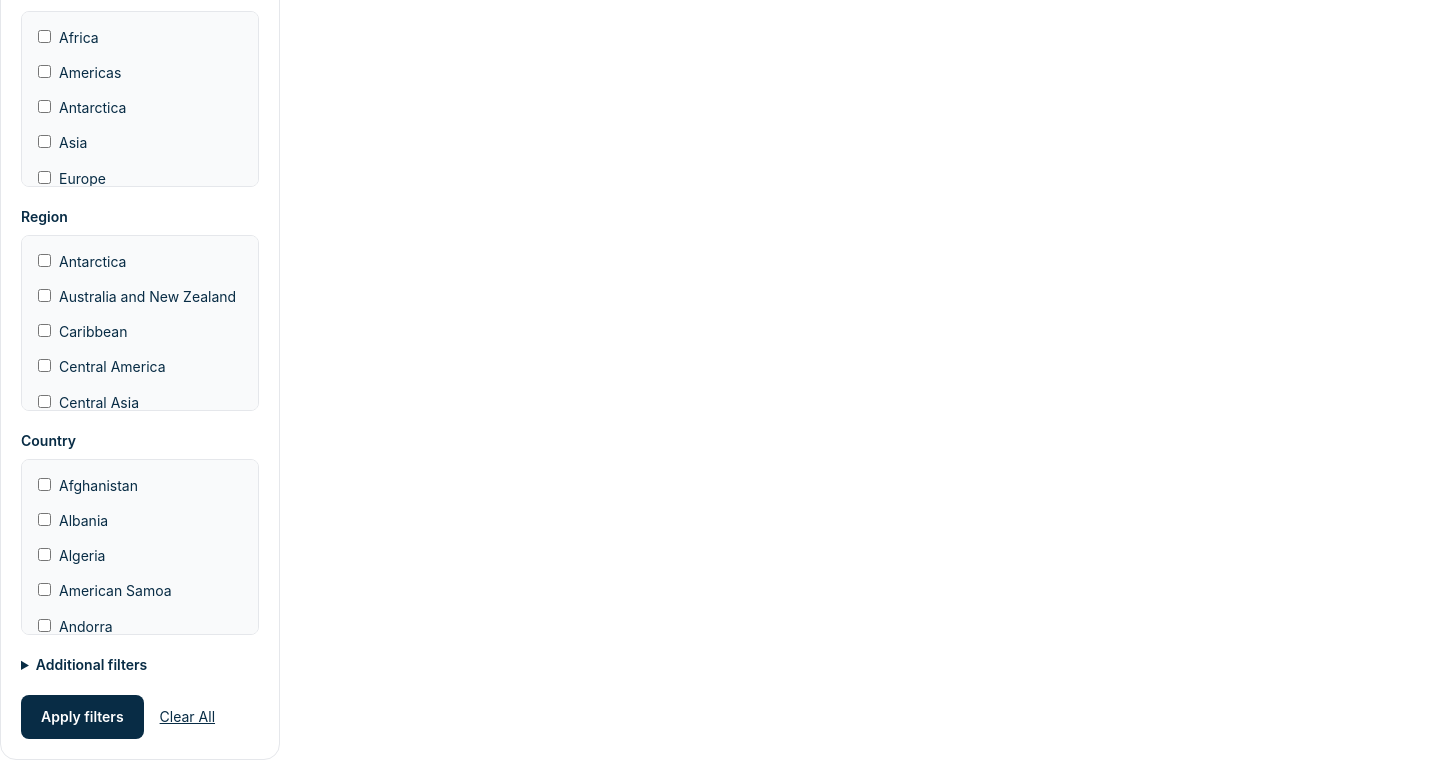
retains matching saved records after an HTTP failure
The image size is (1440, 760).
(page scrolled)
Click the heading "Additional filters". click: click(92, 664)
box: [36,656,147,673]
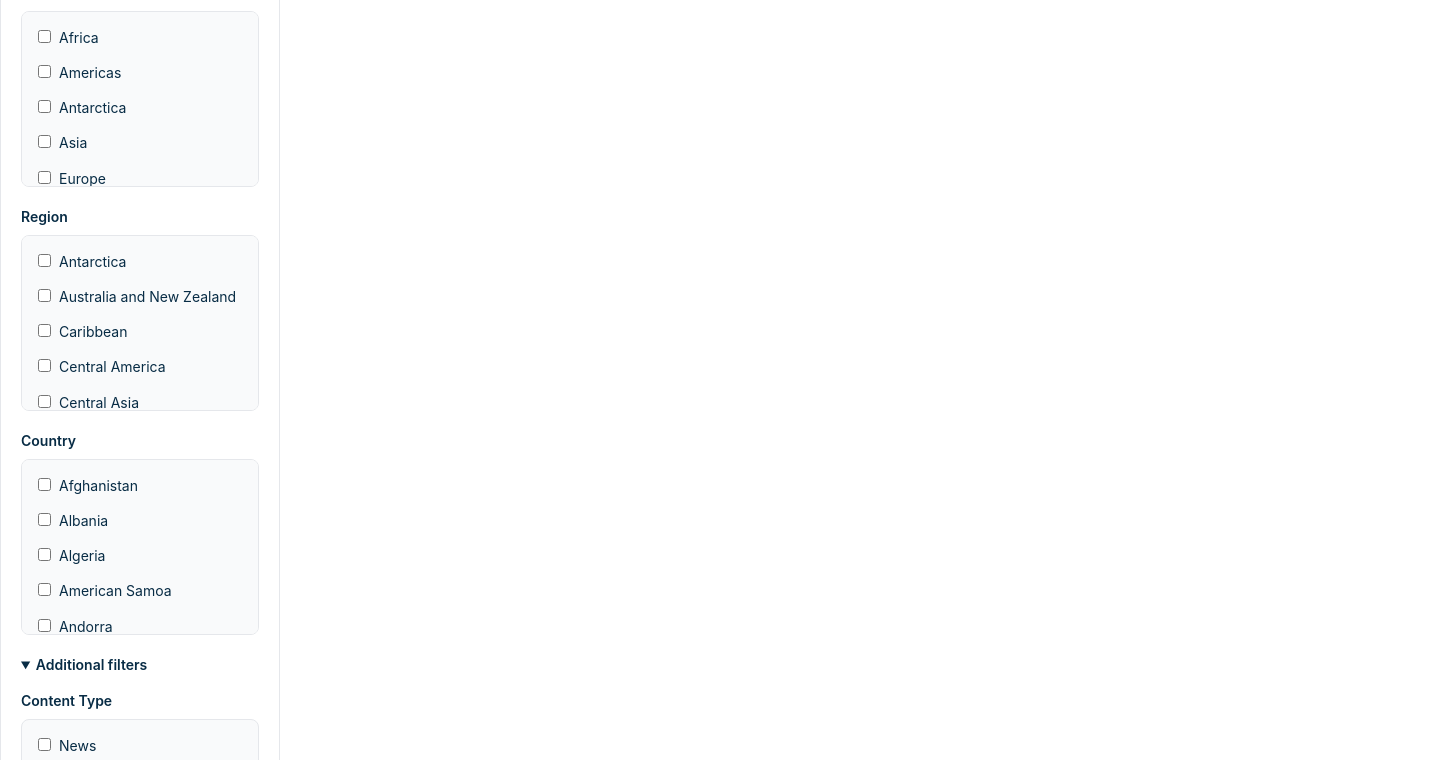
Click the checkbox labelled "News". click: click(44, 744)
box: [38,738,51,751]
(page scrolled)
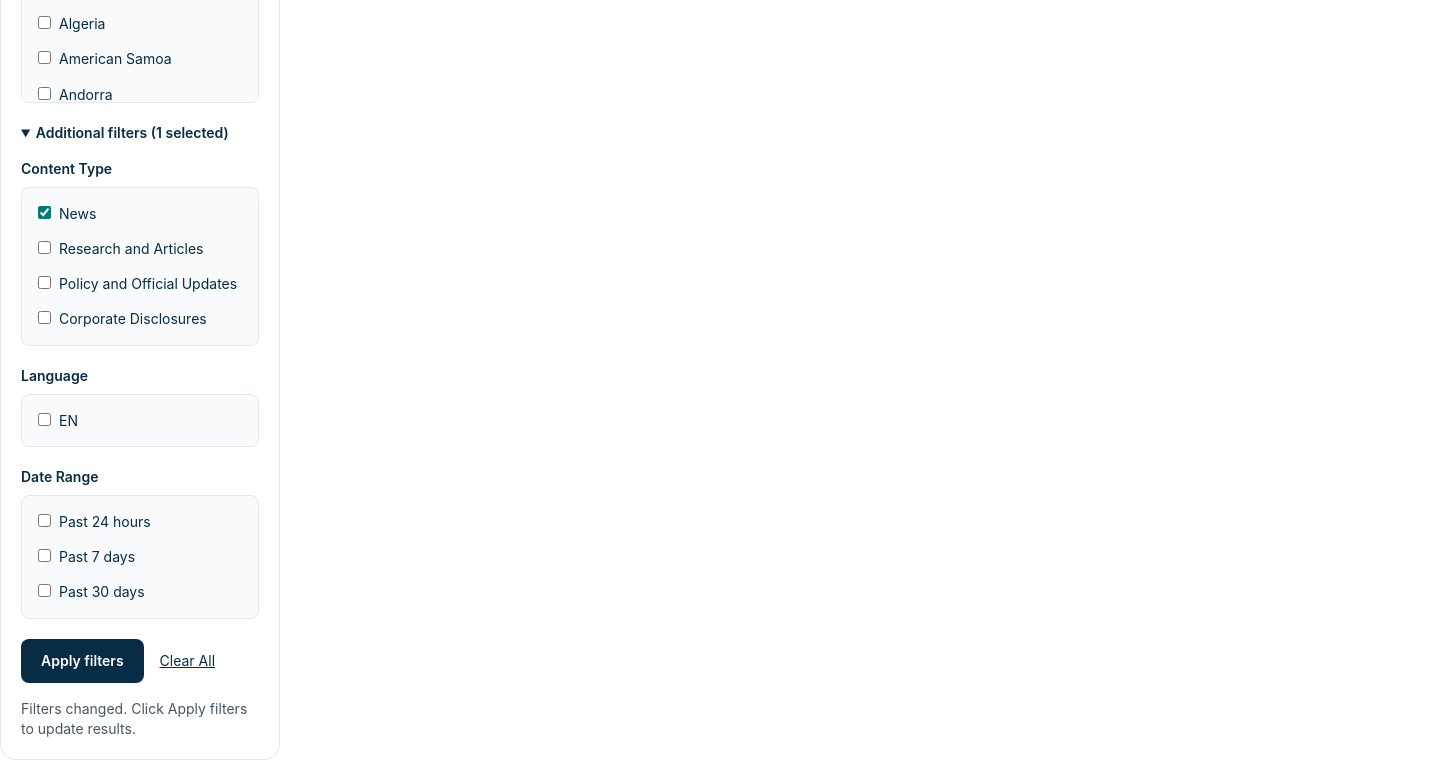
Click the button "Apply filters". click: click(82, 661)
box: [21,639,144,683]
(page scrolled)
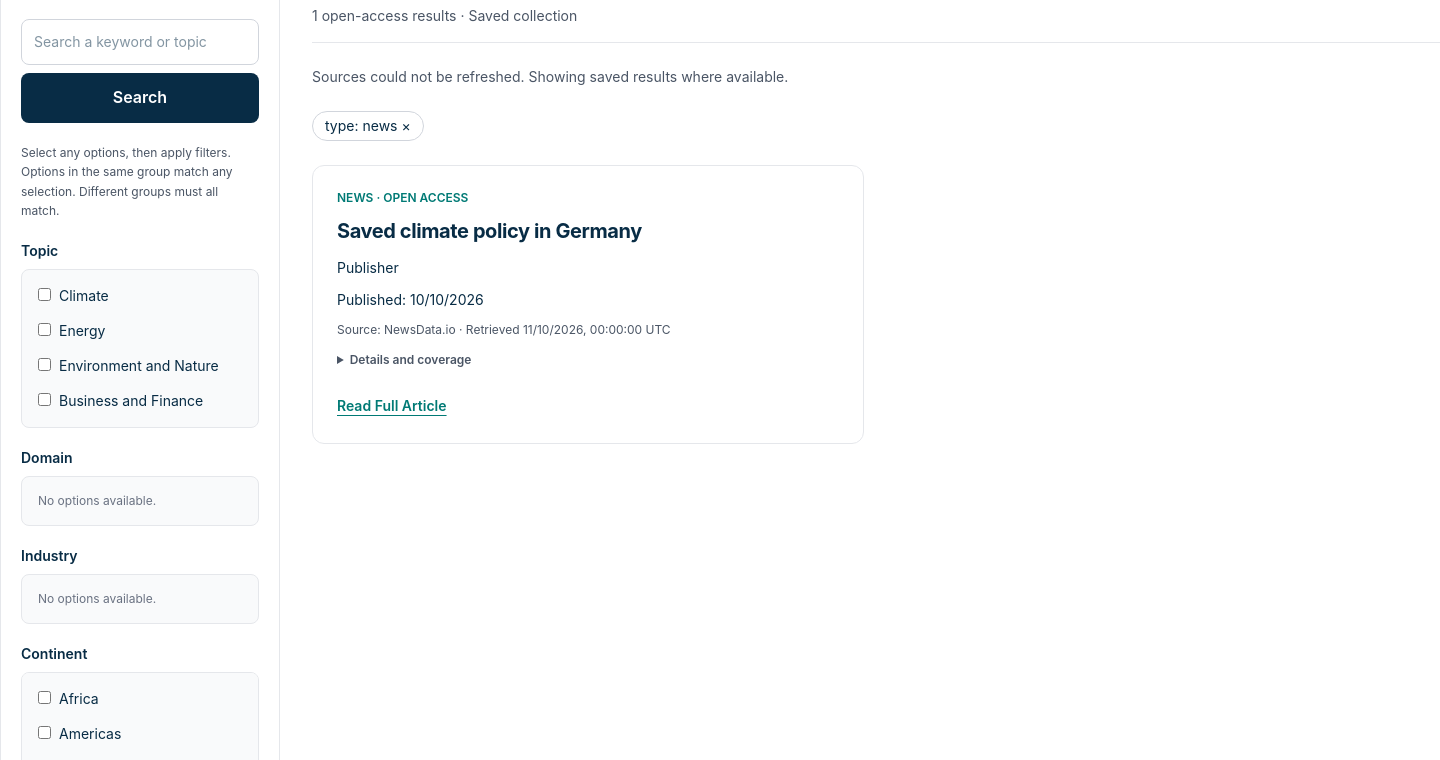
Expected: the heading "Saved climate policy in Germany" is shown, [337,219,642,243]
Expected: the text "Sources could not be refreshed. Showing saved results where available." is shown, [312,68,788,85]
